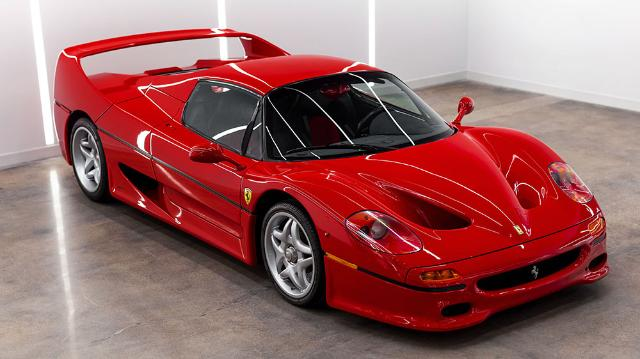ferrari: (54, 27, 610, 333)
